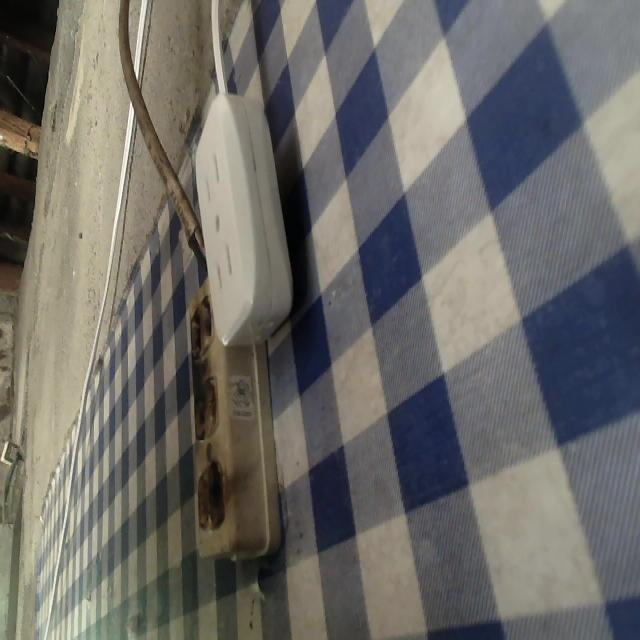-: (190, 458, 231, 538), (185, 367, 223, 437), (186, 291, 216, 357)
